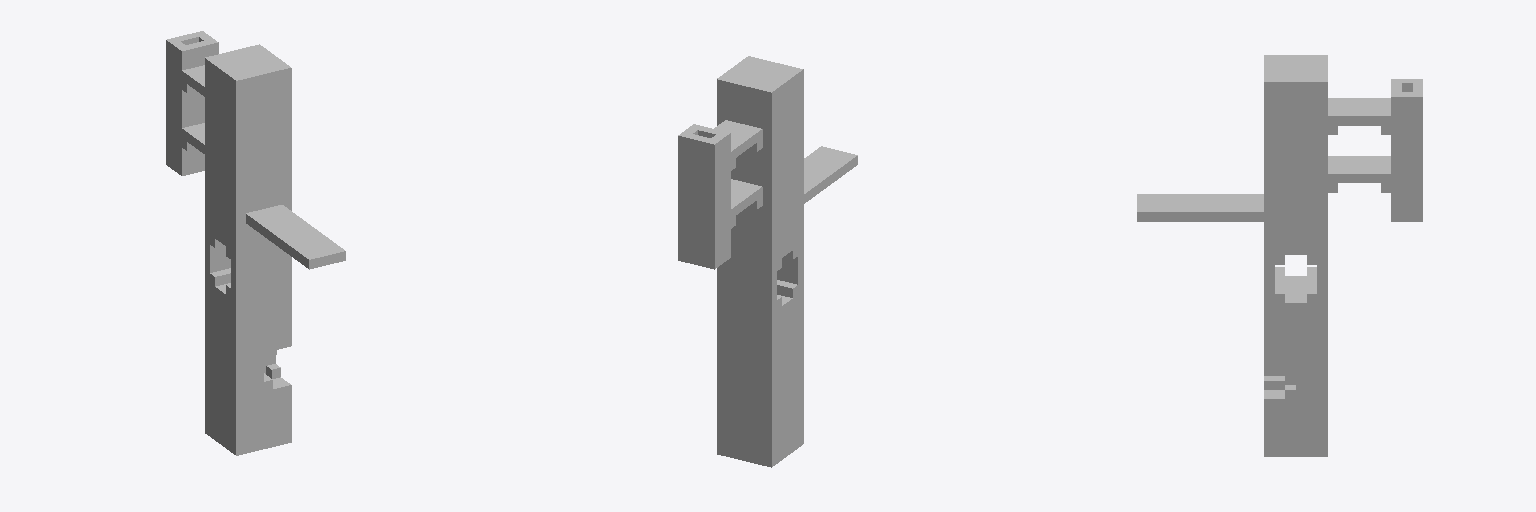
File: level3.obj
3 views of the same model, side by side, from view 1: azimuth 30°, elevation 25°; view 2: azimuth 150°, elevation 25°; view 3: azimuth 270°, elevation 25° (orthographic).
Size of the model in its own units: 6 by 39 by 27.